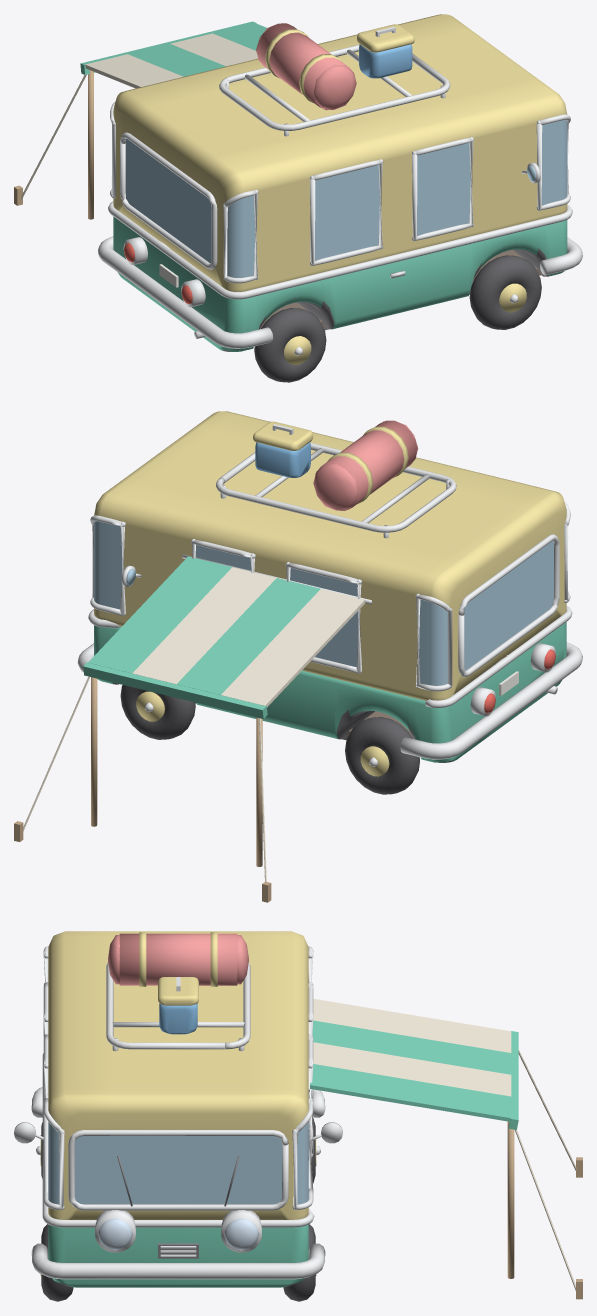
The model's file is camper_van.glb.
3 views of the same model, one above another, from view 1: azimuth 30°, elevation 25°; view 2: azimuth 150°, elevation 25°; view 3: azimuth 270°, elevation 25° (orthographic). The views are drawn at different scales.
Parts seen in each view (by area): view 1: camper_van; view 2: camper_van; view 3: camper_van.
Boxes of the visible parts, x1,y1,x2,y2 form: camper_van: (14, 14, 582, 382); camper_van: (14, 411, 582, 902); camper_van: (14, 931, 582, 1301).
Size of the model in its own units: 3.33 by 2.34 by 4.15.
